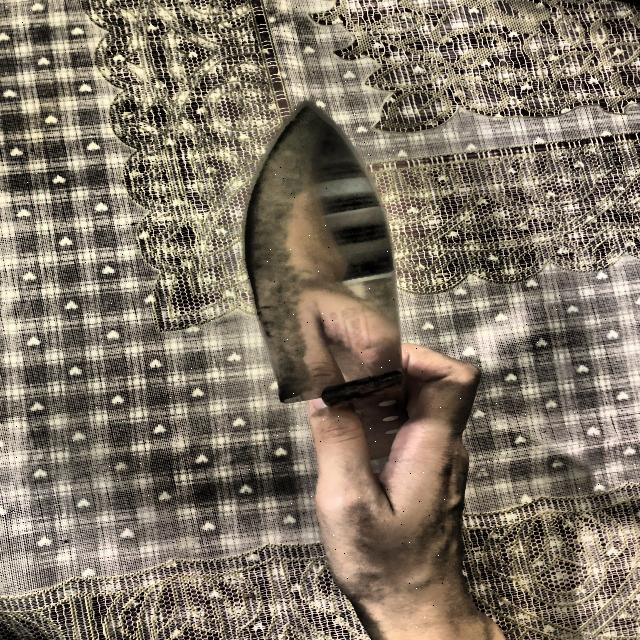knife: (245, 101, 408, 482)
